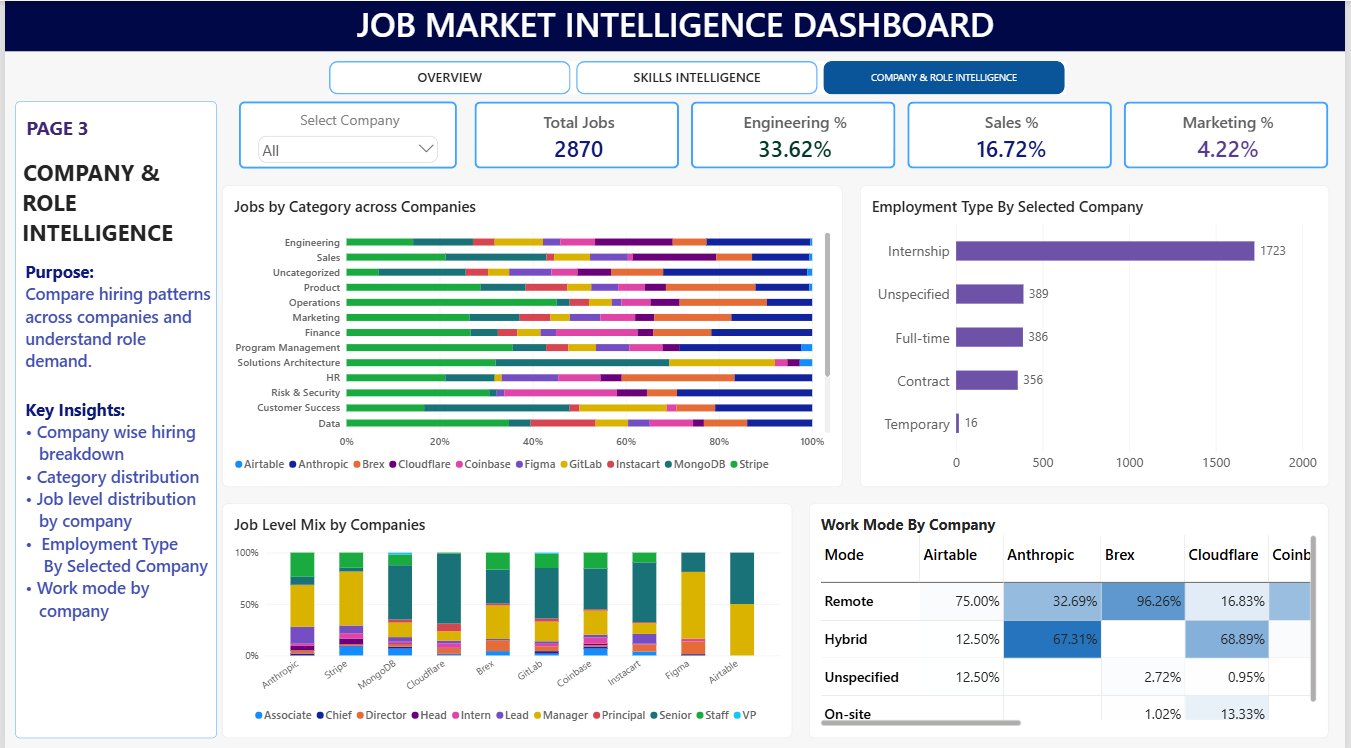

What the dashboard file says about the page in this screenshot:
{"tool":"powerbi","page":{"name":"COMPANY & ROLE INTELLIGENCE","canvas":[1920,1080],"ordinal":2},"visuals":[{"type":"textbox","box":[0,0,1920,72],"z":0},{"type":"cardVisual","fields":{"Data":["_Measures.Total Jobs","_Measures.Engineering %","_Measures.Sales %","_Measures.Marketing %"]},"box":[672,144,1224,96],"z":2000},{"type":"slicer","title":"Select Company","fields":{"Values":["companies.company_name"]},"box":[336,144,312,96],"z":3000},{"type":"hundredPercentStackedBarChart","title":"Jobs by Category across Companies","fields":{"Category":["jobs.category"],"Series":["companies.company_name"],"Y":["_Measures.Total Jobs"]},"box":[312,264,888,432],"z":4000},{"type":"barChart","title":"Employment Type By Selected Company","fields":{"Category":["jobs.employment_type"],"Y":["_Measures.Total Jobs"]},"box":[1224,264,672,432],"z":5000},{"type":"hundredPercentStackedColumnChart","title":"Job Level Mix by Companies","fields":{"Category":["companies.company_name"],"Series":["jobs.level"],"Y":["_Measures.Total Jobs"]},"box":[312,720,816,336],"z":6000},{"type":"pivotTable","title":"Work Mode By Company","fields":{"Columns":["companies.company_name"],"Rows":["jobs.work_mode"],"Values":["_Measures.Total Jobs"]},"box":[1152,720,744,336],"z":7000},{"type":"textbox","box":[16,144,288,912],"z":8000},{"type":"pageNavigator","box":[465,85,1056,48],"z":8001}]}

Visuals, with their boxes in screenshot pixels (x1, y1, x2, y2), scaled from the page's 1920x1080 canvas onto the 1351x748 screenshot:
textbox: box(0, 0, 1350, 50)
cardVisual - _Measures.Total Jobs x _Measures.Engineering %: box(473, 100, 1334, 166)
"Select Company" slicer: box(236, 100, 456, 166)
"Jobs by Category across Companies" hundredPercentStackedBarChart: box(220, 183, 844, 482)
"Employment Type By Selected Company" barChart: box(861, 183, 1334, 482)
"Job Level Mix by Companies" hundredPercentStackedColumnChart: box(220, 499, 794, 731)
"Work Mode By Company" pivotTable: box(811, 499, 1334, 731)
textbox: box(11, 100, 214, 731)
pageNavigator: box(327, 59, 1070, 92)
